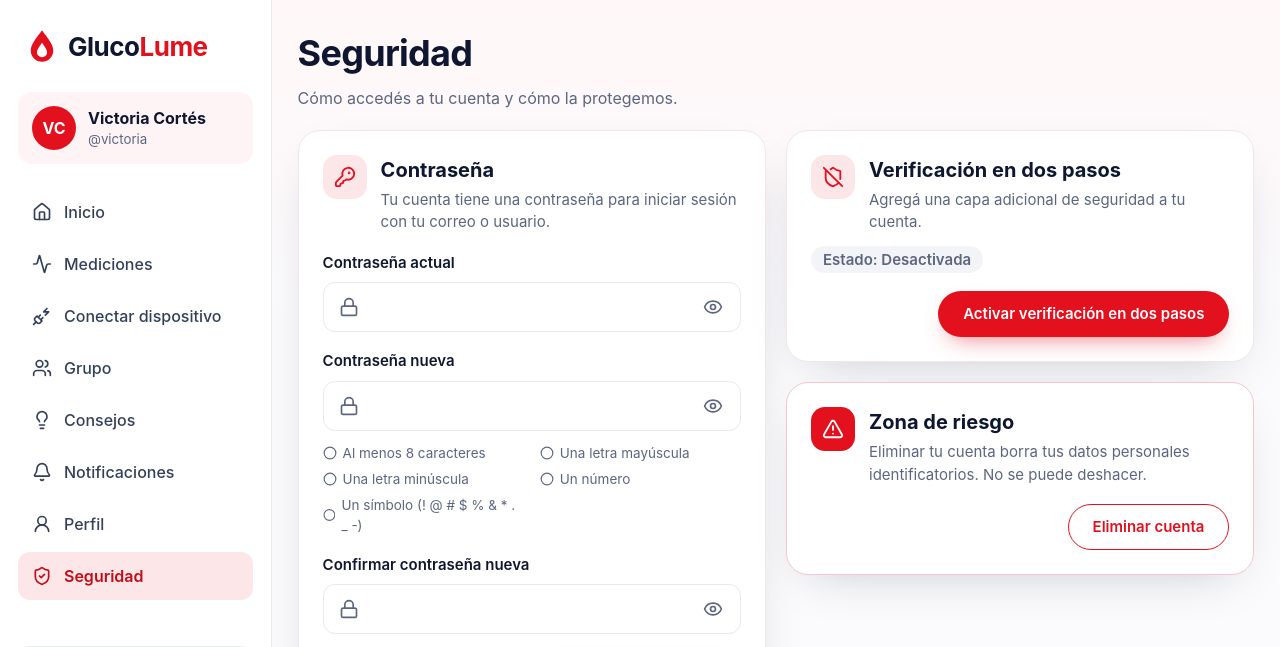
Test: Layout autenticado › si el refresh token es rechazado durante el uso, vuelve al login
Click the button "Activar verificación en dos pasos" at (1084,314), box [938,291,1229,337]
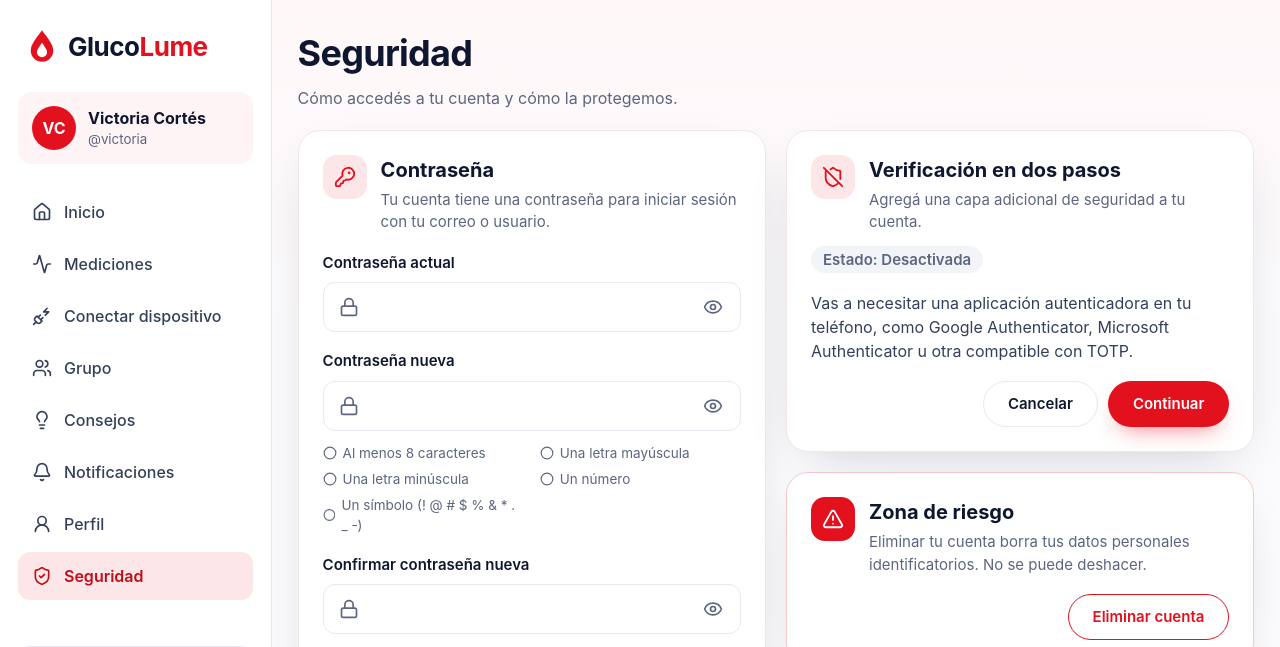
Click the button "Continuar" at (1169,404), box [1108,381,1229,427]
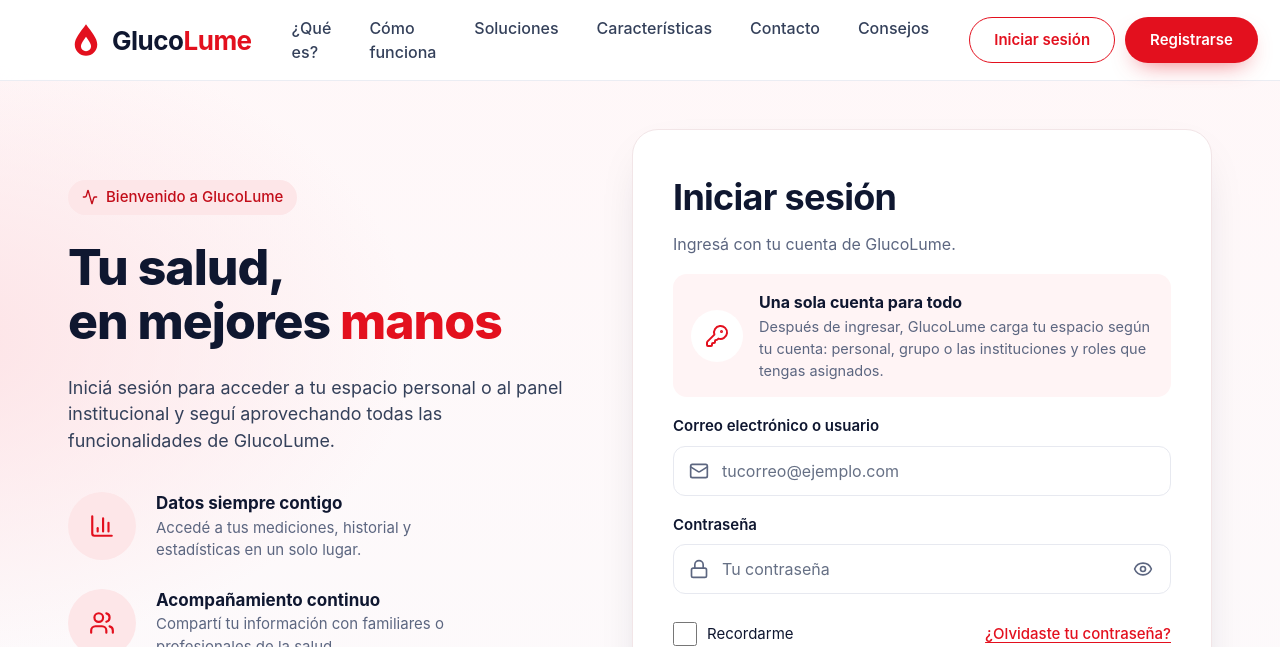
Now the heading "Iniciar sesión" is shown, box [673,175,896,219]
